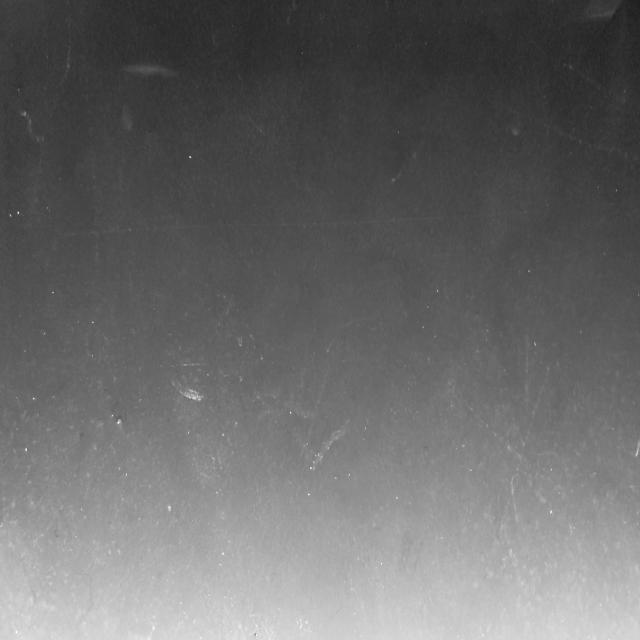beta: (501, 363, 551, 538), (33, 0, 71, 216), (530, 33, 630, 109), (510, 109, 636, 168), (451, 376, 525, 468), (83, 75, 102, 270), (298, 366, 328, 468), (498, 529, 534, 609), (386, 136, 425, 192), (16, 100, 43, 144), (246, 112, 270, 140), (508, 473, 520, 527), (441, 254, 453, 305), (146, 623, 158, 640), (633, 438, 640, 461)
